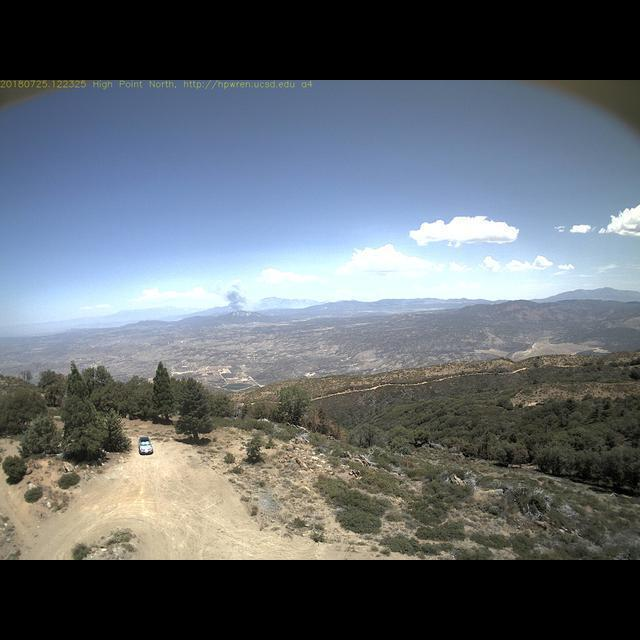Smoke: (218, 284, 253, 318)
